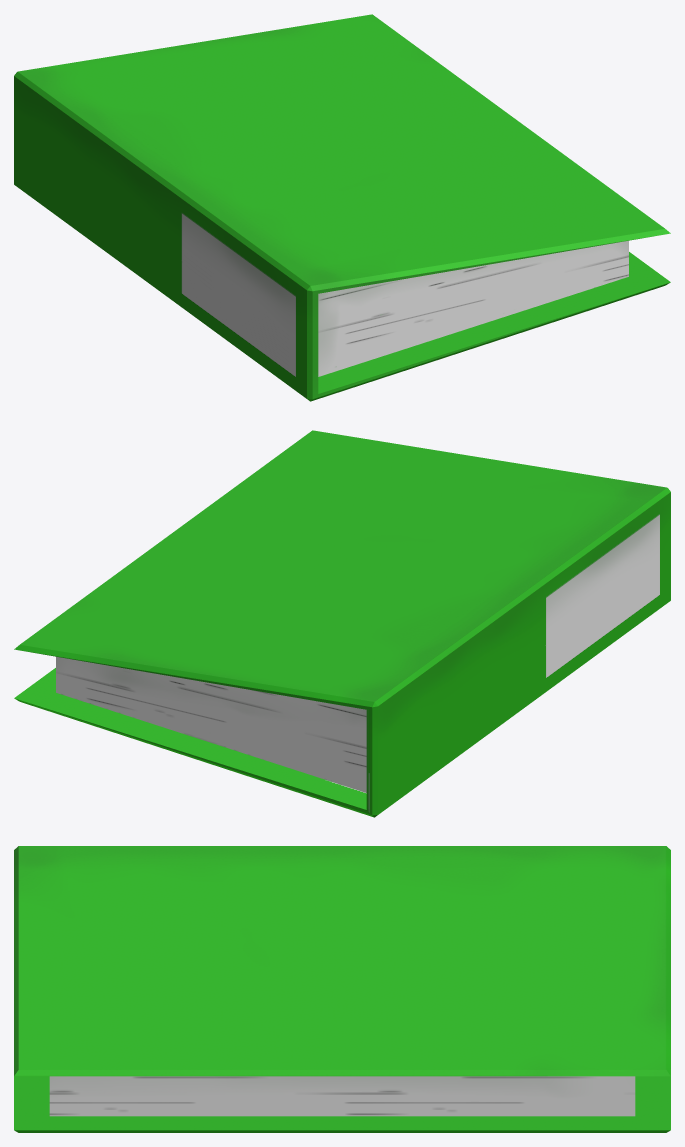
Rendered from DocFolder_002.fbx.
The picture shows the model from 3 angles, top to bottom: view 1: azimuth 30°, elevation 25°; view 2: azimuth 150°, elevation 25°; view 3: azimuth 270°, elevation 25°; orthographic projection. The views are drawn at different scales.
Visible parts, largest first — view 1: DocFolder_002; view 2: DocFolder_002; view 3: DocFolder_002.
Boxes of the visible parts, left/top/right/bottom form: DocFolder_002: left=14, top=14, right=670, bottom=401; DocFolder_002: left=14, top=430, right=670, bottom=817; DocFolder_002: left=14, top=846, right=670, bottom=1132.
Bounding box in the file's own units: 25.83 × 7.88 × 36.71.
1 material, 1 textured.
